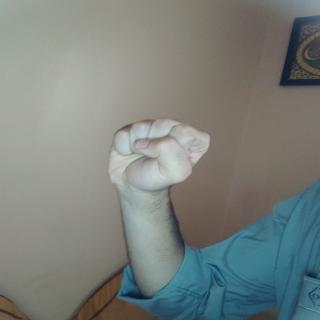SAD: (102, 112, 218, 215)
